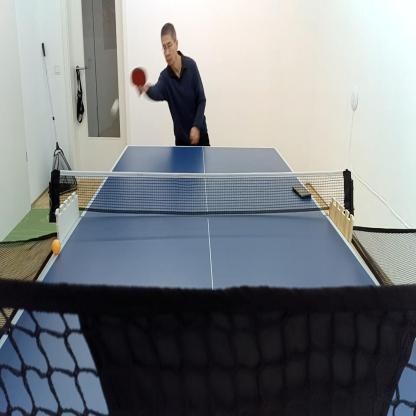Ball: (110, 97, 120, 119), (51, 238, 61, 255)
